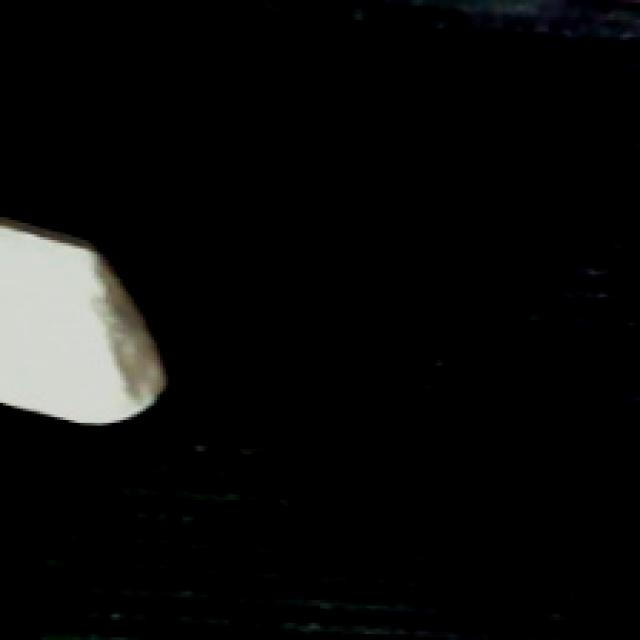defected: (0, 206, 174, 435)
